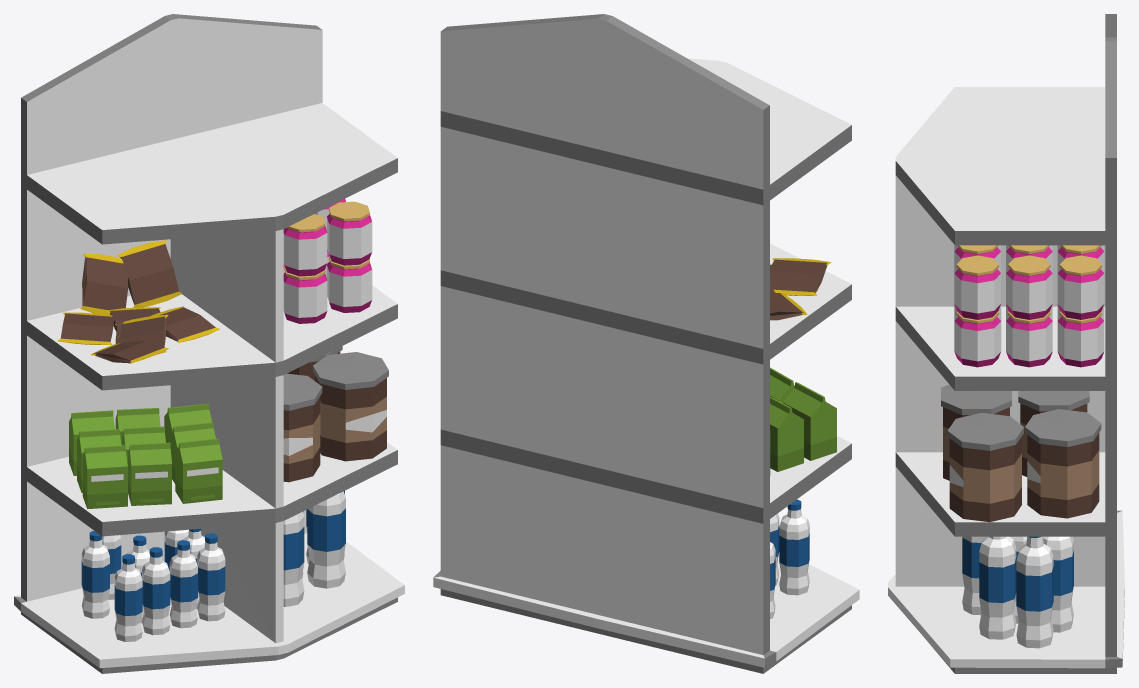
Rendered from SMless_Shelf_02.fbx.
The picture shows the model from 3 angles, left to right: view 1: azimuth 30°, elevation 25°; view 2: azimuth 150°, elevation 25°; view 3: azimuth 270°, elevation 25°; orthographic projection. The views are drawn at different scales.
Parts seen in each view (by area): view 1: SMless_Shelf_02; view 2: SMless_Shelf_02; view 3: SMless_Shelf_02.
Boxes of the visible parts, left/top/right/bottom form: SMless_Shelf_02: left=14, top=14, right=404, bottom=673; SMless_Shelf_02: left=433, top=14, right=859, bottom=673; SMless_Shelf_02: left=888, top=14, right=1124, bottom=673.
Size of the model in its own units: 135 by 236 by 90.01.
